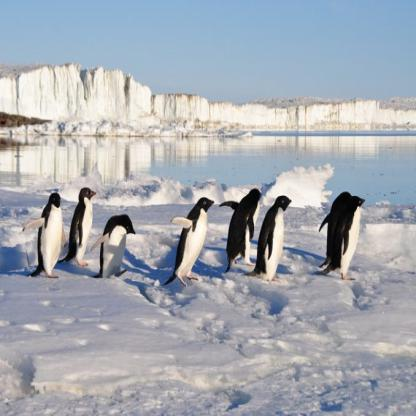Penguin: (318, 178, 380, 284), (216, 180, 275, 283), (21, 178, 74, 286), (251, 186, 299, 296), (164, 183, 212, 292), (57, 175, 104, 277), (92, 202, 146, 290)
